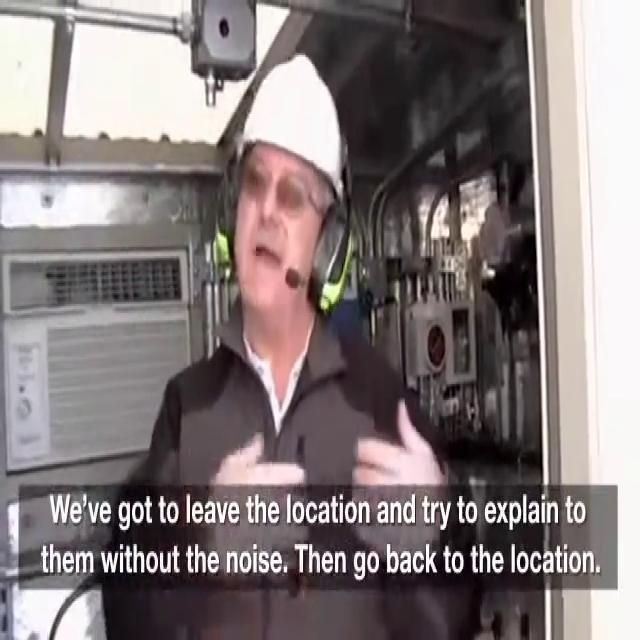earmuff: (306, 195, 356, 319), (212, 161, 237, 290)
glasses: (241, 151, 326, 238)
helmet: (237, 42, 346, 211)
